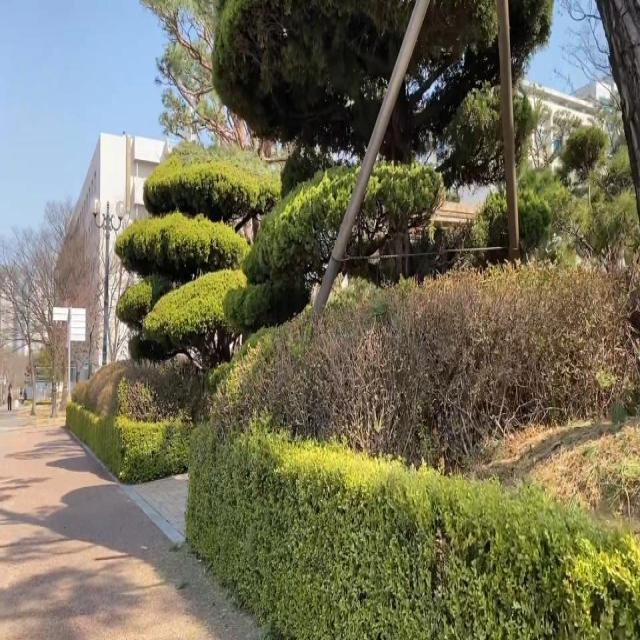sidewalk: (0, 426, 260, 640)
